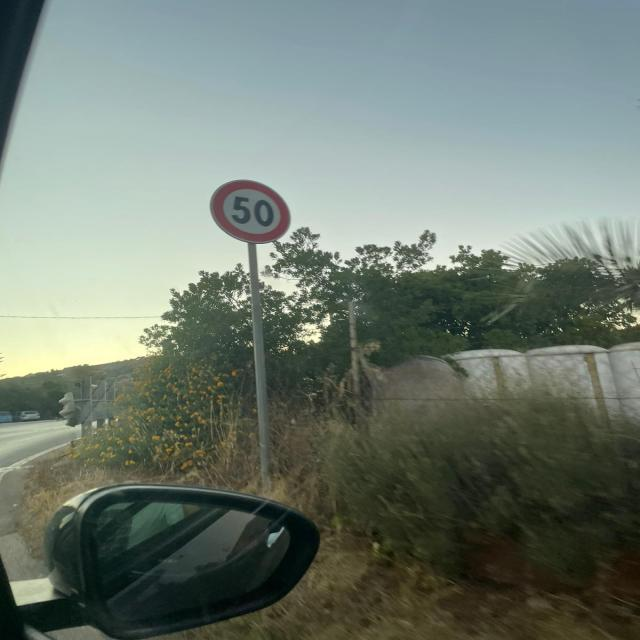forb_speed_over_40: (208, 179, 293, 244)
